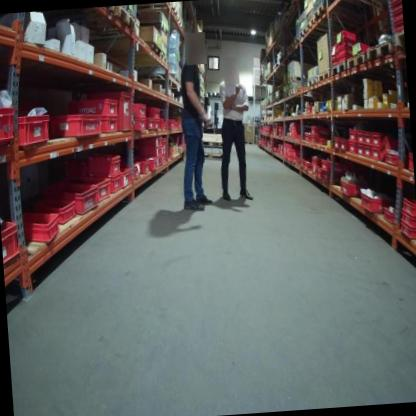pallet: (365, 40, 394, 63), (114, 5, 137, 32), (346, 52, 368, 72), (313, 3, 327, 23), (330, 62, 347, 77), (203, 150, 224, 162), (394, 29, 405, 51), (201, 139, 223, 148), (317, 69, 331, 83), (159, 51, 169, 64), (307, 18, 315, 30), (299, 27, 307, 38)
small_load_carrier: (48, 180, 98, 218), (50, 109, 106, 141), (16, 110, 57, 151), (19, 210, 64, 247), (104, 87, 133, 135), (32, 197, 80, 223), (68, 95, 118, 119), (1, 214, 23, 268), (76, 152, 124, 175), (77, 173, 110, 204), (0, 105, 20, 141), (375, 134, 399, 160), (358, 191, 384, 214), (333, 27, 358, 43), (100, 115, 119, 134), (338, 180, 359, 197), (382, 205, 400, 224), (160, 138, 171, 168), (381, 152, 399, 170), (131, 100, 148, 119), (144, 101, 160, 121), (399, 210, 416, 227), (121, 166, 134, 188), (403, 195, 416, 216), (399, 223, 416, 239), (109, 174, 123, 193), (132, 118, 150, 132), (141, 137, 163, 148), (144, 146, 164, 158), (334, 39, 355, 50), (139, 161, 151, 180), (131, 161, 140, 185), (321, 158, 339, 170), (354, 42, 369, 56), (144, 157, 158, 172), (340, 53, 355, 66), (334, 47, 356, 55), (311, 124, 328, 134), (362, 146, 372, 161), (391, 1, 403, 13), (392, 20, 403, 33), (370, 132, 380, 146), (354, 143, 364, 157), (310, 134, 319, 148), (322, 173, 333, 184), (340, 139, 349, 152), (363, 130, 371, 144), (147, 118, 155, 132), (312, 166, 322, 177), (355, 131, 364, 143), (392, 10, 402, 20), (407, 155, 413, 171), (347, 142, 355, 154), (154, 119, 162, 131), (160, 119, 167, 132), (313, 157, 322, 167), (167, 120, 175, 130), (305, 163, 313, 173), (349, 131, 356, 142), (372, 149, 378, 161), (333, 141, 339, 153), (331, 56, 340, 64), (330, 41, 337, 51), (301, 161, 307, 172), (388, 0, 401, 5), (157, 159, 164, 168), (317, 171, 324, 180), (306, 133, 312, 143), (318, 137, 326, 144), (331, 51, 340, 57)
